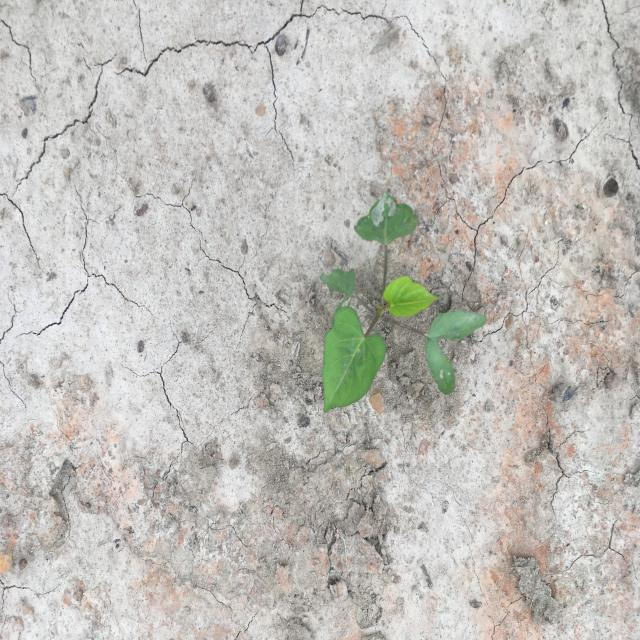MorningGlory: (321, 191, 488, 414)
